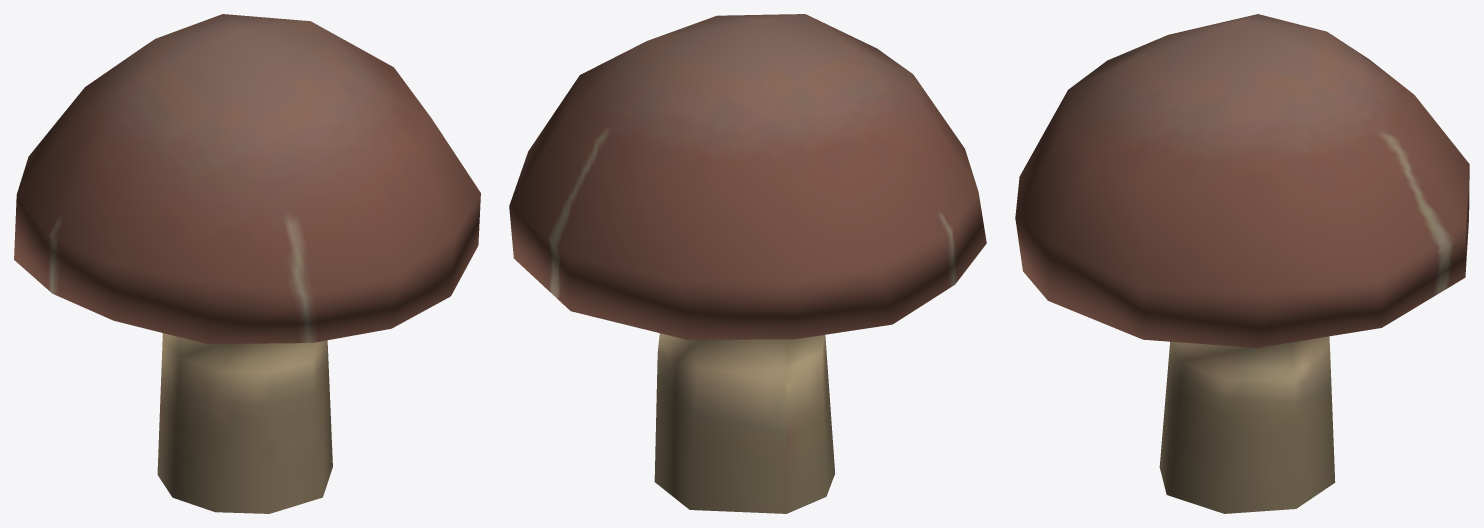
Rendered from mushroom03.fbx.
The picture shows the model from 3 angles, left to right: view 1: azimuth 30°, elevation 25°; view 2: azimuth 150°, elevation 25°; view 3: azimuth 270°, elevation 25°; orthographic projection.
Parts seen in each view (by area): view 1: mushroom03; view 2: mushroom03; view 3: mushroom03.
Part boxes in pixels (x1,y1,x2,y2): mushroom03: (14,14,480,513); mushroom03: (509,14,986,513); mushroom03: (1015,14,1469,513).
Bounding box in the file's own units: 1.23 × 1.33 × 1.21.
Materials: 1 (1 with a texture image).
